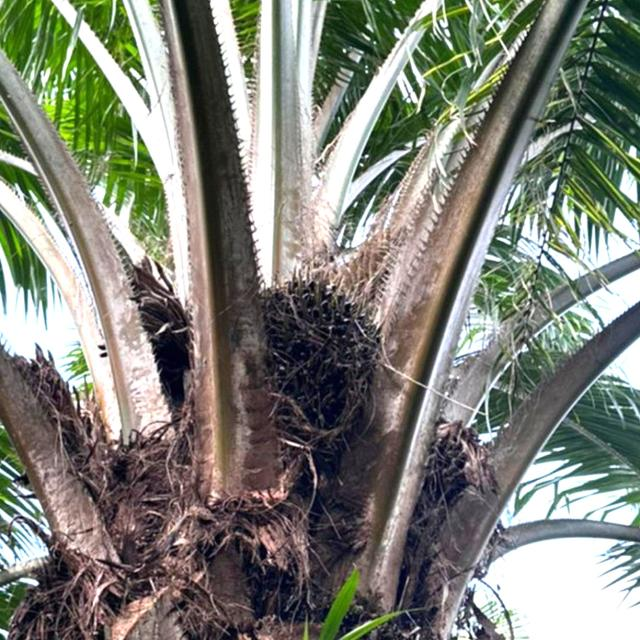unripe: (243, 278, 395, 483)
